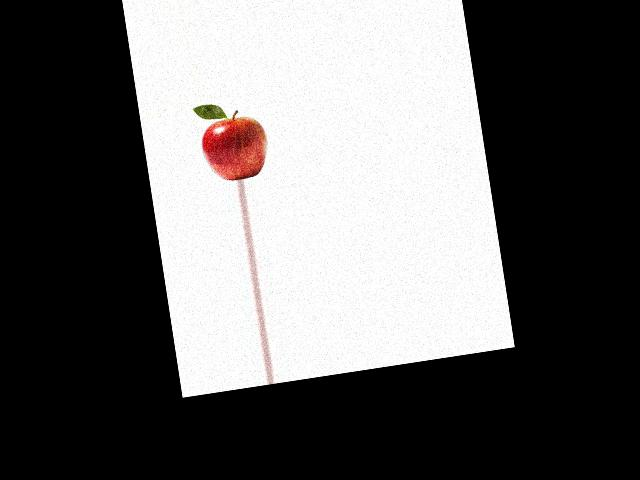apple: (193, 109, 273, 185)
